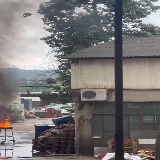fire: (0, 116, 11, 127)
